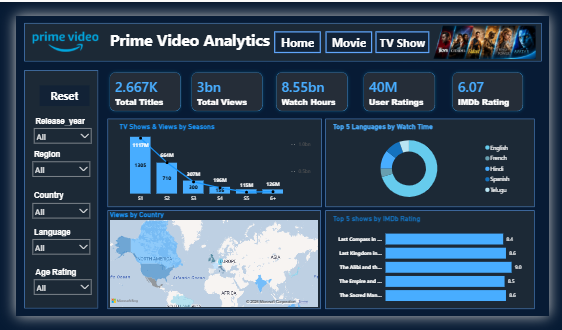

The dashboard page shown, as its layout file describes it:
{"tool":"powerbi","page":{"name":"DASHBOARD","canvas":[1280,720],"ordinal":0},"visuals":[{"type":"shape","title":"5thshape","box":[597.5,497.5,662.5,212.5],"z":0},{"type":"shape","box":[20,17.5,1242.5,92.5],"z":1000},{"type":"image","box":[40,18,158,90],"z":2000},{"type":"cardVisual","fields":{"Data":["Count(prime_video_synthetic_dataset.show_id)"]},"box":[197.5,107.5,227.5,150],"z":3000},{"type":"cardVisual","fields":{"Data":["Sum(prime_video_synthetic_dataset.total_views)"]},"box":[392.5,107.5,227.5,150],"z":4000},{"type":"cardVisual","fields":{"Data":["Sum(prime_video_synthetic_dataset.watch_time_hours)"]},"box":[598,108,228,150],"z":5000},{"type":"cardVisual","fields":{"Data":["Sum(prime_video_synthetic_dataset.user_rating_count)"]},"box":[808,106,228,150],"z":6000},{"type":"cardVisual","fields":{"Data":["Avg(prime_video_synthetic_dataset.imdb_rating)"]},"box":[1020,106,226,150],"z":7000},{"type":"textbox","box":[218.8,25,845,72.5],"z":8000},{"type":"actionButton","box":[862.5,35,130,52.5],"z":9000},{"type":"actionButton","box":[742.5,35,112.5,52.5],"z":10000},{"type":"shape","box":[20,130,177.5,572.5],"z":11000},{"type":"slicer","fields":{"Values":["prime_video_synthetic_dataset.release_year"]},"box":[32,236,158,82],"z":12000},{"type":"slicer","fields":{"Values":["prime_video_synthetic_dataset.region"]},"box":[32.4,319.1,145.6,82.4],"z":13000},{"type":"slicer","fields":{"Values":["prime_video_synthetic_dataset.country"]},"box":[30,416,158,82],"z":14000},{"type":"slicer","fields":{"Values":["prime_video_synthetic_dataset.language"]},"box":[30,504,158,82],"z":15000},{"type":"slicer","fields":{"Values":["prime_video_synthetic_dataset.rating"]},"box":[32,600,158,82],"z":16000},{"type":"actionButton","title":"homereset","box":[48,158,120,50],"z":17000},{"type":"shape","title":"firstshape","box":[218,259,363.3,221.7],"z":18000},{"type":"lineChart","title":"Titles added per year","fields":{"Category":["prime_video_synthetic_dataset.release_year"],"Y":["CountNonNull(prime_video_synthetic_dataset.title)"]},"box":[230,282.5,350,175],"z":19000},{"type":"shape","title":"secondshape","box":[597.5,255,400,232.5],"z":20000},{"type":"barChart","title":"Top genres","fields":{"Y":["CountNonNull(prime_video_synthetic_dataset.show_id)"],"Category":["prime_video_synthetic_dataset.listed_in"]},"box":[607.5,262.5,400,222.5],"z":21000},{"type":"shape","title":"fourthshape","box":[217.5,490,365,220],"z":22000},{"type":"shape","title":"thirdshape","box":[1005,255,255,235],"z":23000},{"type":"clusteredColumnChart","title":"Total Production by Type","fields":{"Y":["Sum(prime_video_synthetic_dataset.production_budget_usd)"],"Category":["prime_video_synthetic_dataset.type"]},"box":[1012.5,265,242.5,220],"z":24000},{"type":"treemap","title":"Content Distribution by Age Rating","fields":{"Group":["prime_video_synthetic_dataset.rating"],"Values":["CountNonNull(prime_video_synthetic_dataset.show_id)"]},"box":[607.5,505,637.5,205],"z":25000},{"type":"pieChart","title":"Views by Region","fields":{"Category":["prime_video_synthetic_dataset.region"],"Y":["Sum(prime_video_synthetic_dataset.total_views)"]},"box":[230,497.5,350,205],"z":26000},{"type":"image","box":[992.5,22.5,262.5,80],"z":27000},{"type":"actionButton","box":[620,35,112.5,52.5],"z":28000}]}

Visuals, with their boxes on the page's 1280x720 design canvas (x1, y1, x2, y2). These are canvas units, not pixel positions in the 562x330 screenshot, which may show the page scaled, cropped or inside an application window:
"5thshape" shape: {"left": 598, "top": 498, "right": 1260, "bottom": 710}
shape: {"left": 20, "top": 18, "right": 1262, "bottom": 110}
image: {"left": 40, "top": 18, "right": 198, "bottom": 108}
cardVisual - Count(prime_video_synthetic_dataset.show_id): {"left": 198, "top": 108, "right": 425, "bottom": 258}
cardVisual - Sum(prime_video_synthetic_dataset.total_views): {"left": 392, "top": 108, "right": 620, "bottom": 258}
cardVisual - Sum(prime_video_synthetic_dataset.watch_time_hours): {"left": 598, "top": 108, "right": 826, "bottom": 258}
cardVisual - Sum(prime_video_synthetic_dataset.user_rating_count): {"left": 808, "top": 106, "right": 1036, "bottom": 256}
cardVisual - Avg(prime_video_synthetic_dataset.imdb_rating): {"left": 1020, "top": 106, "right": 1246, "bottom": 256}
textbox: {"left": 219, "top": 25, "right": 1064, "bottom": 98}
actionButton: {"left": 862, "top": 35, "right": 992, "bottom": 88}
actionButton: {"left": 742, "top": 35, "right": 855, "bottom": 88}
shape: {"left": 20, "top": 130, "right": 198, "bottom": 702}
slicer - prime_video_synthetic_dataset.release_year: {"left": 32, "top": 236, "right": 190, "bottom": 318}
slicer - prime_video_synthetic_dataset.region: {"left": 32, "top": 319, "right": 178, "bottom": 402}
slicer - prime_video_synthetic_dataset.country: {"left": 30, "top": 416, "right": 188, "bottom": 498}
slicer - prime_video_synthetic_dataset.language: {"left": 30, "top": 504, "right": 188, "bottom": 586}
slicer - prime_video_synthetic_dataset.rating: {"left": 32, "top": 600, "right": 190, "bottom": 682}
"homereset" actionButton: {"left": 48, "top": 158, "right": 168, "bottom": 208}
"firstshape" shape: {"left": 218, "top": 259, "right": 581, "bottom": 481}
"Titles added per year" lineChart: {"left": 230, "top": 282, "right": 580, "bottom": 458}
"secondshape" shape: {"left": 598, "top": 255, "right": 998, "bottom": 488}
"Top genres" barChart: {"left": 608, "top": 262, "right": 1008, "bottom": 485}
"fourthshape" shape: {"left": 218, "top": 490, "right": 582, "bottom": 710}
"thirdshape" shape: {"left": 1005, "top": 255, "right": 1260, "bottom": 490}
"Total Production by Type" clusteredColumnChart: {"left": 1012, "top": 265, "right": 1255, "bottom": 485}
"Content Distribution by Age Rating" treemap: {"left": 608, "top": 505, "right": 1245, "bottom": 710}
"Views by Region" pieChart: {"left": 230, "top": 498, "right": 580, "bottom": 702}
image: {"left": 992, "top": 22, "right": 1255, "bottom": 102}
actionButton: {"left": 620, "top": 35, "right": 732, "bottom": 88}
